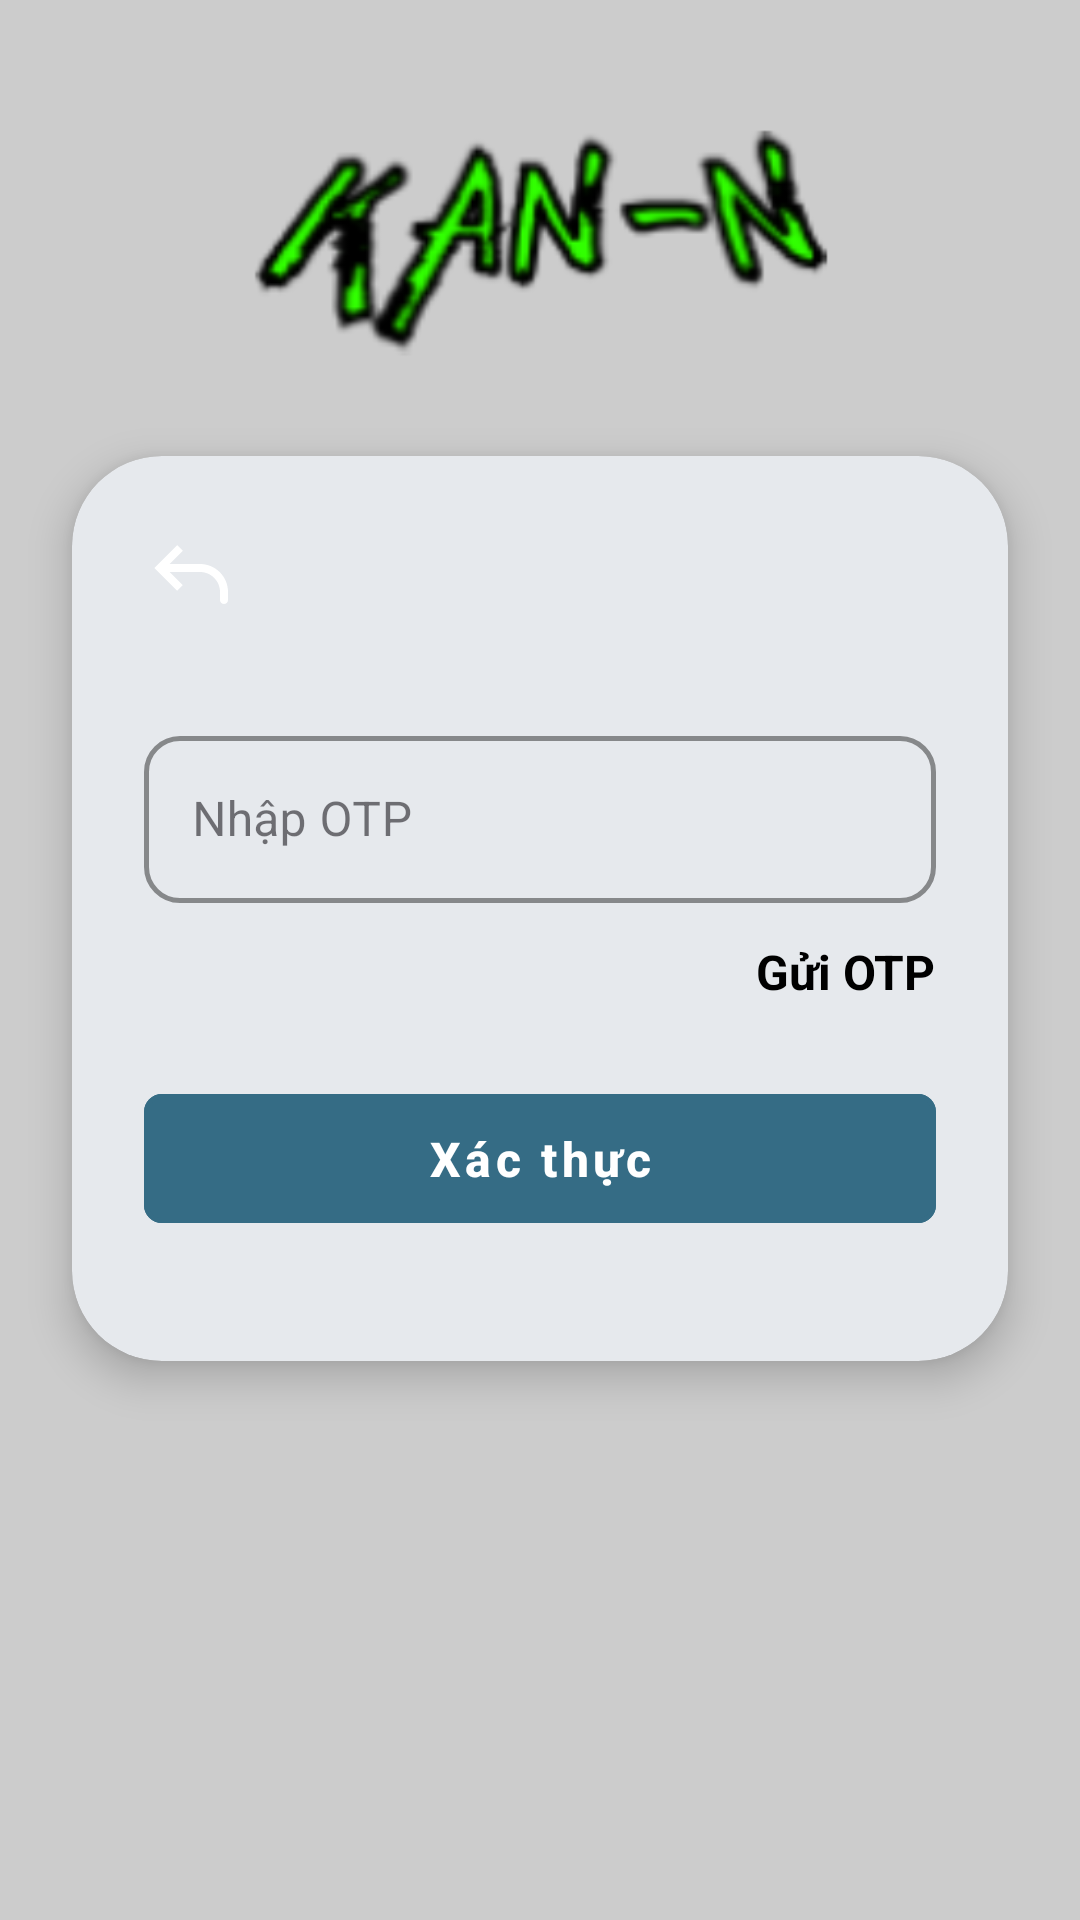

Icon bounding boxes for this 1080px×1920px phone screenshot, format (x1, y1, x2, y2):
Quay lại: (156, 546, 228, 603)
